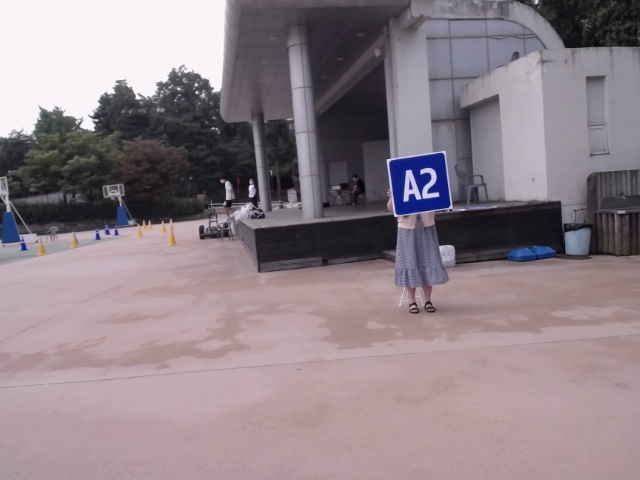delivery_a2: (387, 152, 451, 216)
